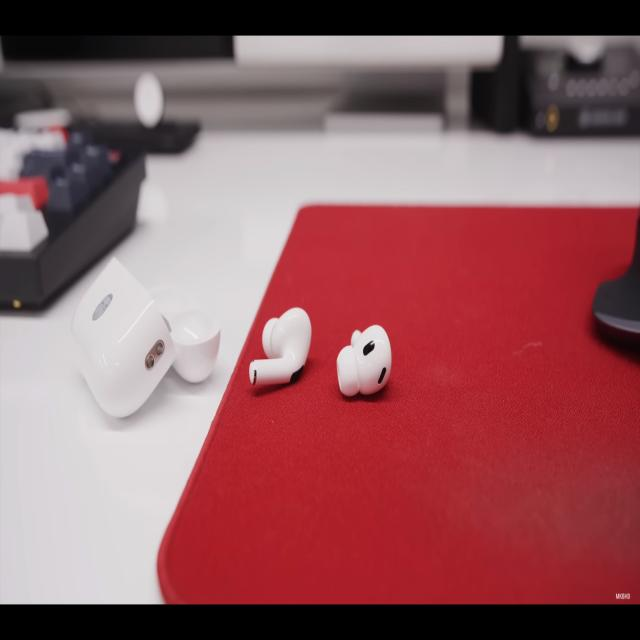airpods: (71, 254, 227, 422), (246, 301, 314, 397), (334, 320, 394, 404)
